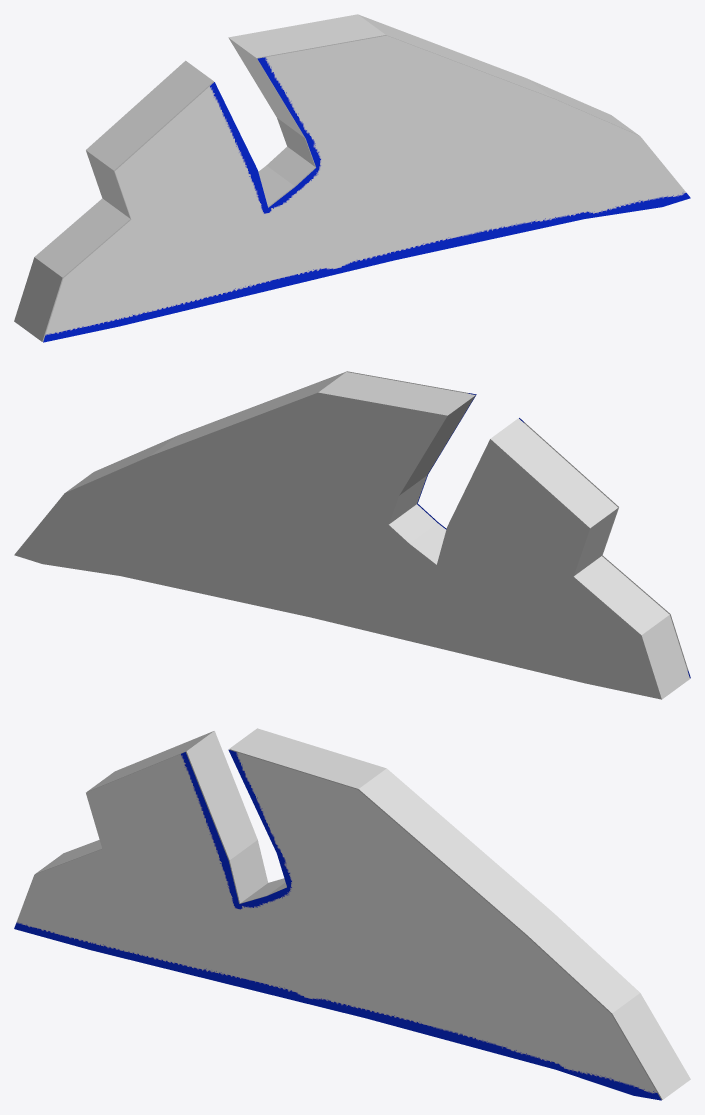
The picture shows the model from 3 angles, top to bottom: view 1: azimuth 30°, elevation 25°; view 2: azimuth 150°, elevation 25°; view 3: azimuth 330°, elevation 25°; orthographic projection.
Visible parts, largest first — view 1: Out_2_1, Out_2_0; view 2: Out_2_0, Out_2_1; view 3: Out_2_1, Out_2_0.
Part boxes in pixels (box(x1,y1,x2,y2)): Out_2_1: box(43, 35, 690, 342); Out_2_0: box(14, 14, 639, 341); Out_2_0: box(14, 372, 689, 699); Out_2_1: box(94, 371, 690, 678); Out_2_1: box(14, 749, 661, 1100); Out_2_0: box(35, 728, 690, 1099).
Size of the model in its own units: 6.63 by 2.42 by 0.515.
Materials: 2 (1 with a texture image).
